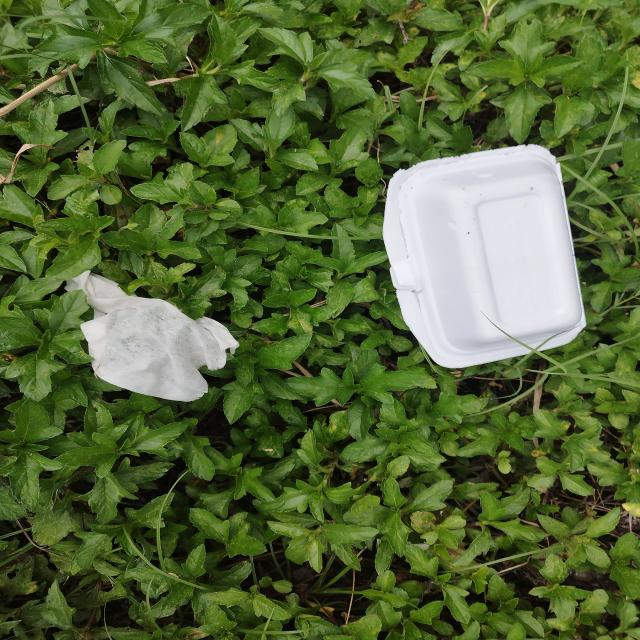foam box: (383, 145, 589, 368)
napkin: (64, 269, 239, 401)
